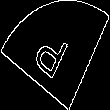P_SW: (33, 24, 77, 86)
